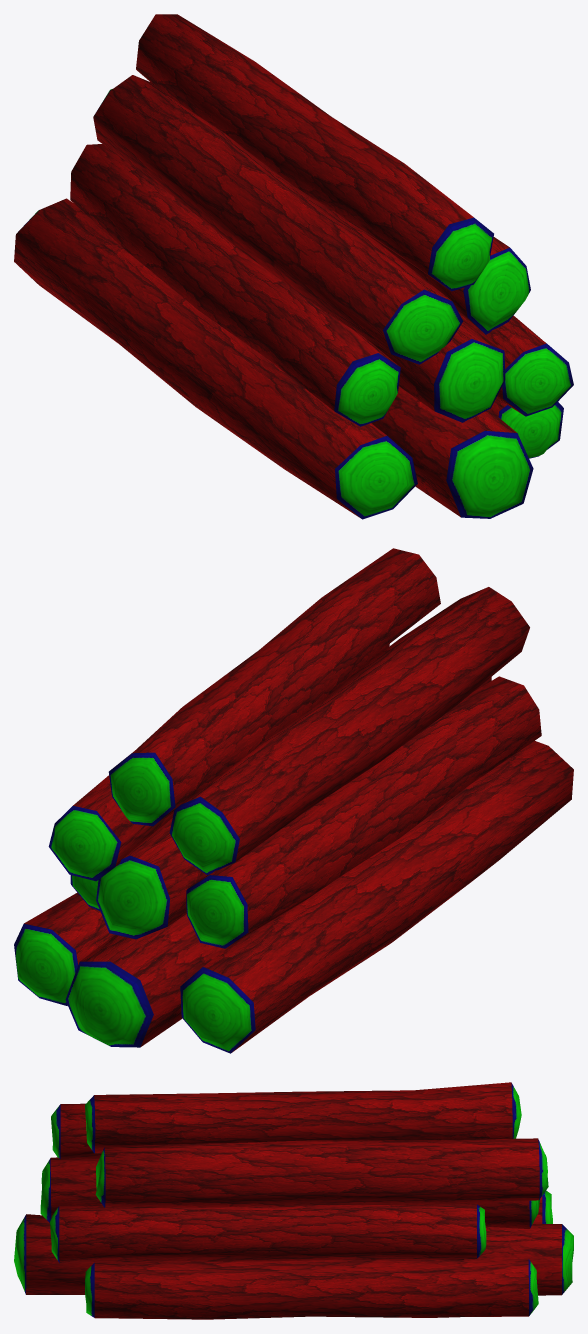
File: LogPile02.fbx
3 renders of one model, top to bottom at view 1: azimuth 30°, elevation 25°; view 2: azimuth 150°, elevation 25°; view 3: azimuth 270°, elevation 25°, orthographic. The views are drawn at different scales.
Parts seen in each view (by area): view 1: LogPile02_LOD0; view 2: LogPile02_LOD0; view 3: LogPile02_LOD0.
Part boxes in pixels (bbox=[...]): LogPile02_LOD0: bbox=[14, 14, 573, 519]; LogPile02_LOD0: bbox=[14, 548, 573, 1053]; LogPile02_LOD0: bbox=[14, 1082, 573, 1319].
Size of what is drawn, in the model's own units: 0.9079 by 0.9249 by 2.29.
